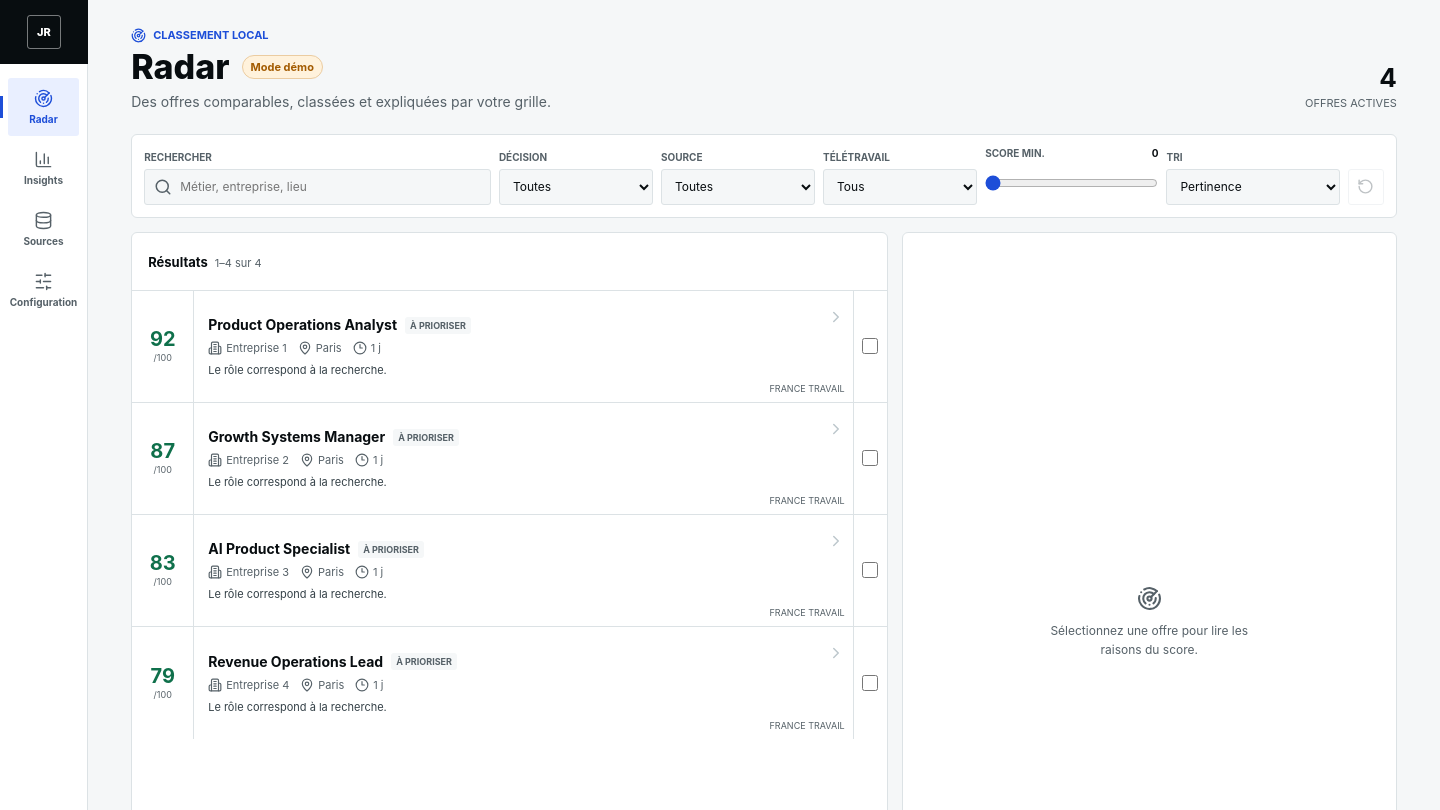
Test: Radar public › signale le mode démo et enregistre un feedback explicite
Expected: the text "Mode démo" is shown, top-left (242, 55), bottom-right (323, 79)
Click the button named "ouvrir product operations analyst" at (303,325), box top-left (194, 291), bottom-right (853, 402)
(page scrolled)
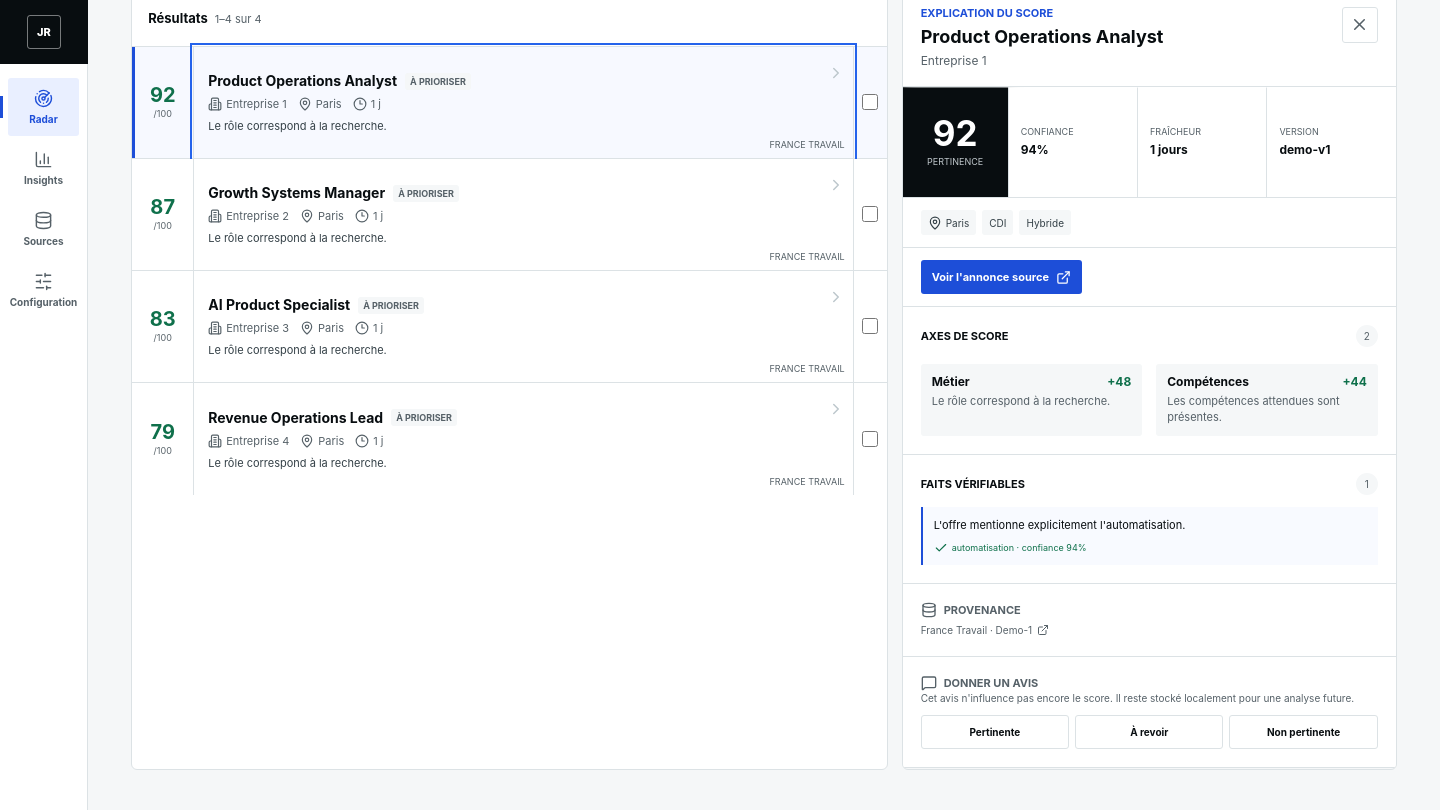
Expected: the heading "Donner un avis" is shown, top-left (921, 675), bottom-right (1038, 691)
Expected: the text "Cet avis n'influence pas encore le score" is shown, top-left (921, 692), bottom-right (1354, 704)
Click the button "Pertinente" at (995,732), box top-left (921, 715), bottom-right (1069, 749)
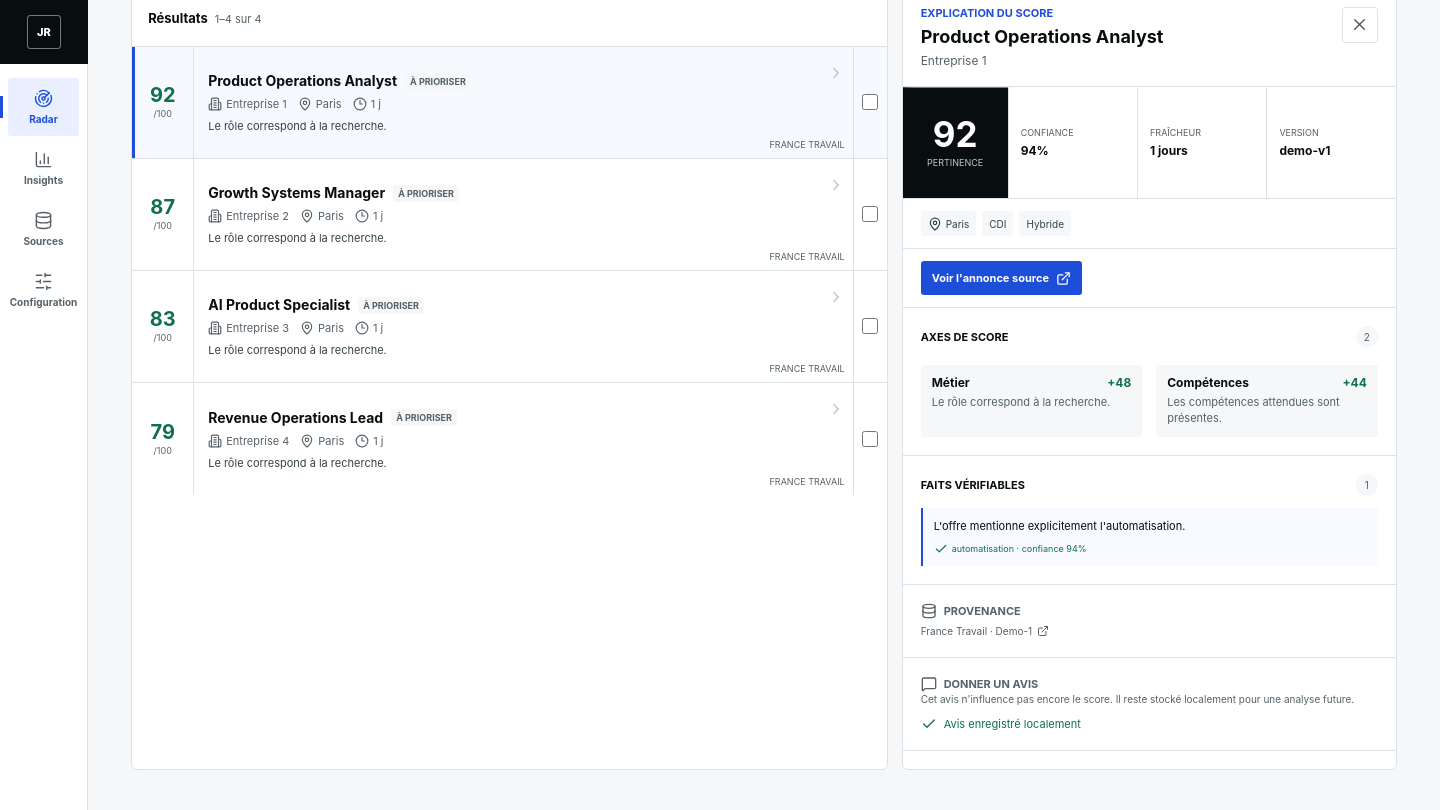
Expected: the text "Avis enregistré localement" is shown, top-left (921, 716), bottom-right (1081, 732)
